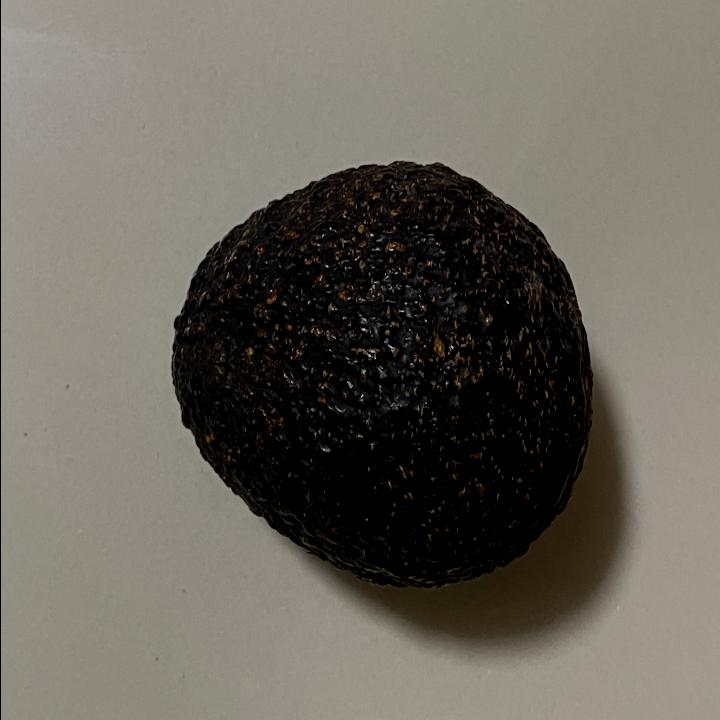Level3: (159, 150, 602, 598)
